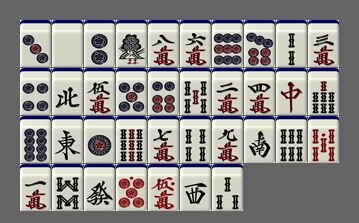0m: (148, 164, 179, 211)
0p: (116, 164, 147, 211)
0s: (308, 116, 339, 163)
1m: (20, 164, 51, 211)
1p: (84, 116, 115, 163)
1s: (116, 20, 147, 67)
1z: (52, 116, 83, 163)
2m: (212, 68, 243, 115)
2p: (84, 20, 115, 67)
2s: (276, 20, 307, 67)
2z: (244, 116, 275, 163)
3m: (308, 20, 339, 67)
3p: (20, 20, 51, 67)
3s: (212, 164, 243, 211)
3z: (180, 164, 211, 211)
4m: (244, 68, 275, 115)
4p: (20, 68, 51, 115)
4s: (180, 116, 211, 163)
4z: (52, 68, 83, 115)
5m: (84, 68, 115, 115)
5p: (116, 68, 147, 115)
5s: (180, 68, 211, 115)
5z: (52, 20, 83, 67)
6m: (180, 20, 211, 67)
6p: (148, 68, 179, 115)
6s: (276, 116, 307, 163)
6z: (84, 164, 115, 211)
7m: (148, 116, 179, 163)
7p: (244, 20, 275, 67)
7s: (308, 68, 339, 115)
7z: (276, 68, 307, 115)
8m: (148, 20, 179, 67)
8p: (20, 116, 51, 163)
8s: (52, 164, 83, 211)
9m: (212, 116, 243, 163)
9p: (212, 20, 243, 67)
9s: (116, 116, 147, 163)
